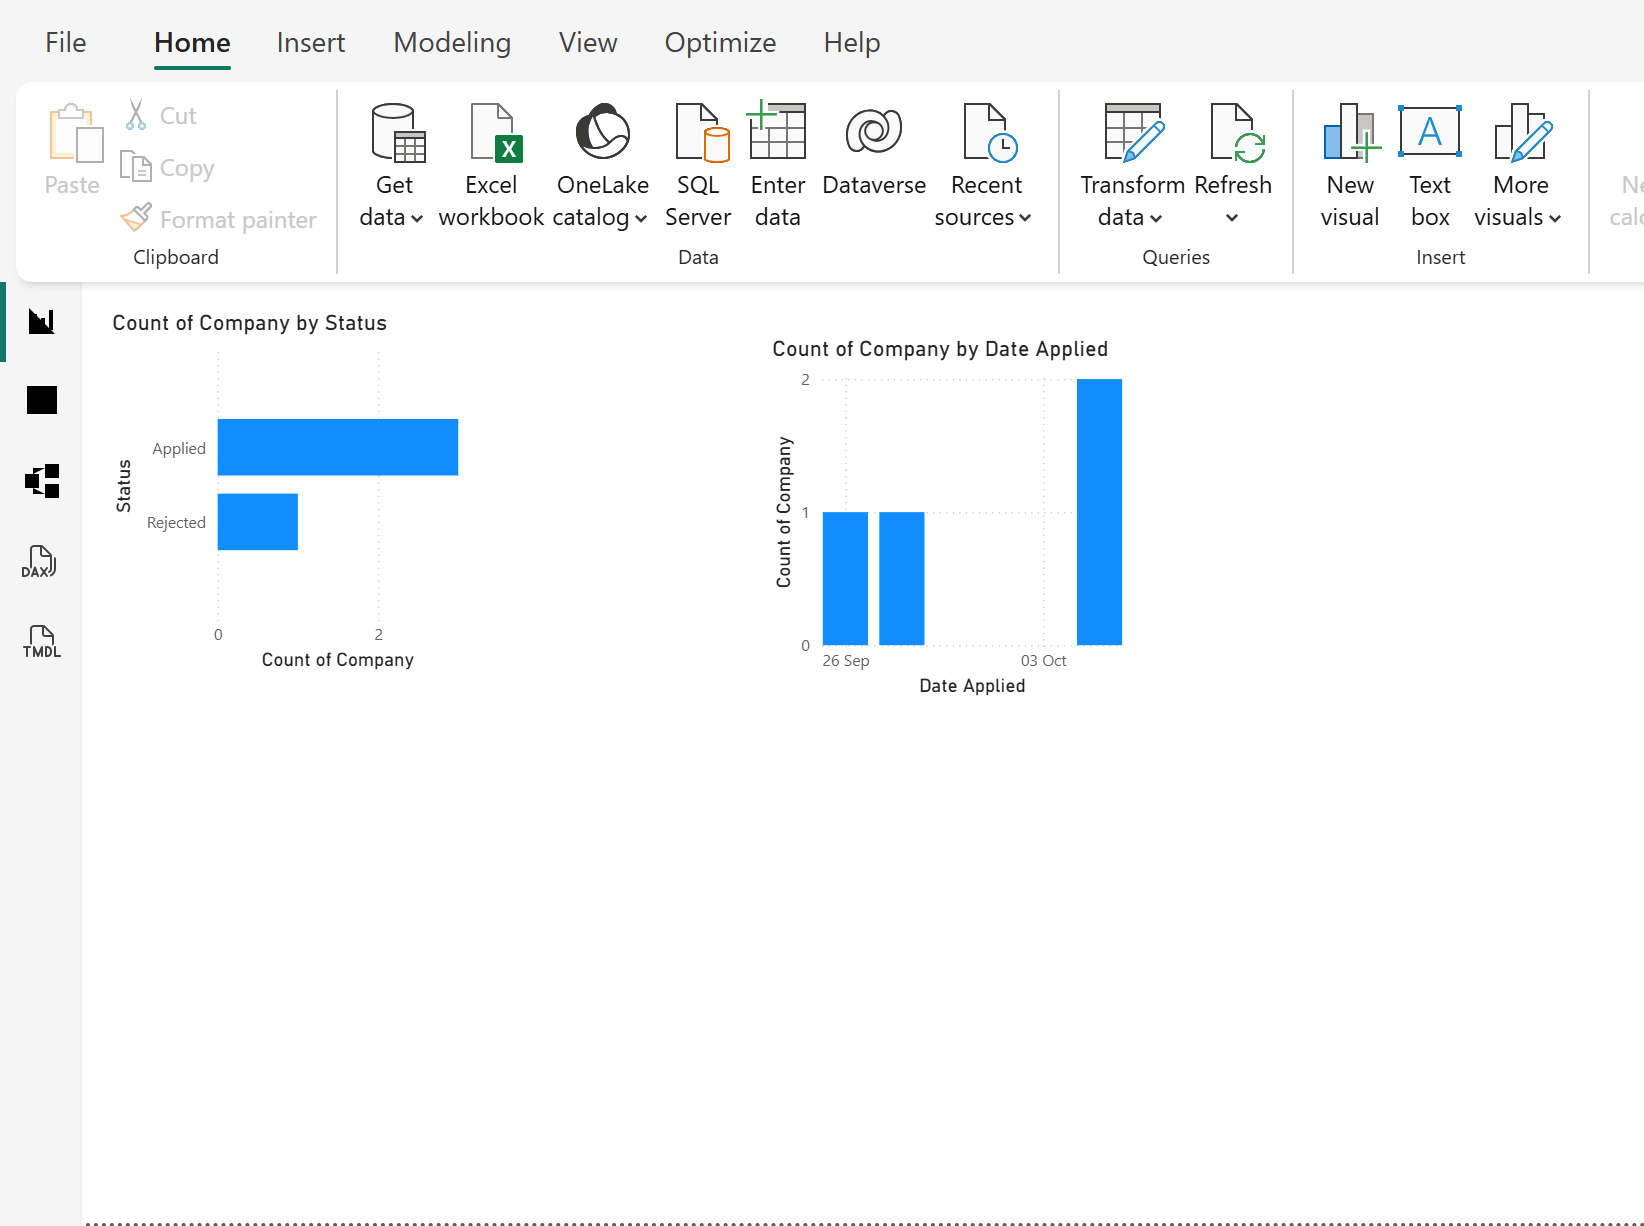

The page's visual inventory and layout, read from the dashboard file:
{"tool":"powerbi","page":{"name":"Page 1","canvas":[1280,720],"ordinal":0},"visuals":[{"type":"clusteredBarChart","fields":{"Y":["CountNonNull(Applications.Company)"],"Category":["Applications.Status"]},"box":[18.4,21.4,278.7,280.2],"z":0},{"type":"clusteredColumnChart","fields":{"Y":["CountNonNull(Applications.Company)"],"Category":["Applications.Date Applied"]},"box":[18,311,279,280],"z":1}]}

Visuals, with their boxes on the page's 1280x720 design canvas (x1, y1, x2, y2). These are canvas units, not pixel positions in the 1644x1226 screenshot, which may show the page scaled, cropped or inside an application window:
clusteredBarChart - CountNonNull(Applications.Company) x Applications.Status: <box>18,21,297,302</box>
clusteredColumnChart - CountNonNull(Applications.Company) x Applications.Date Applied: <box>18,311,297,591</box>
